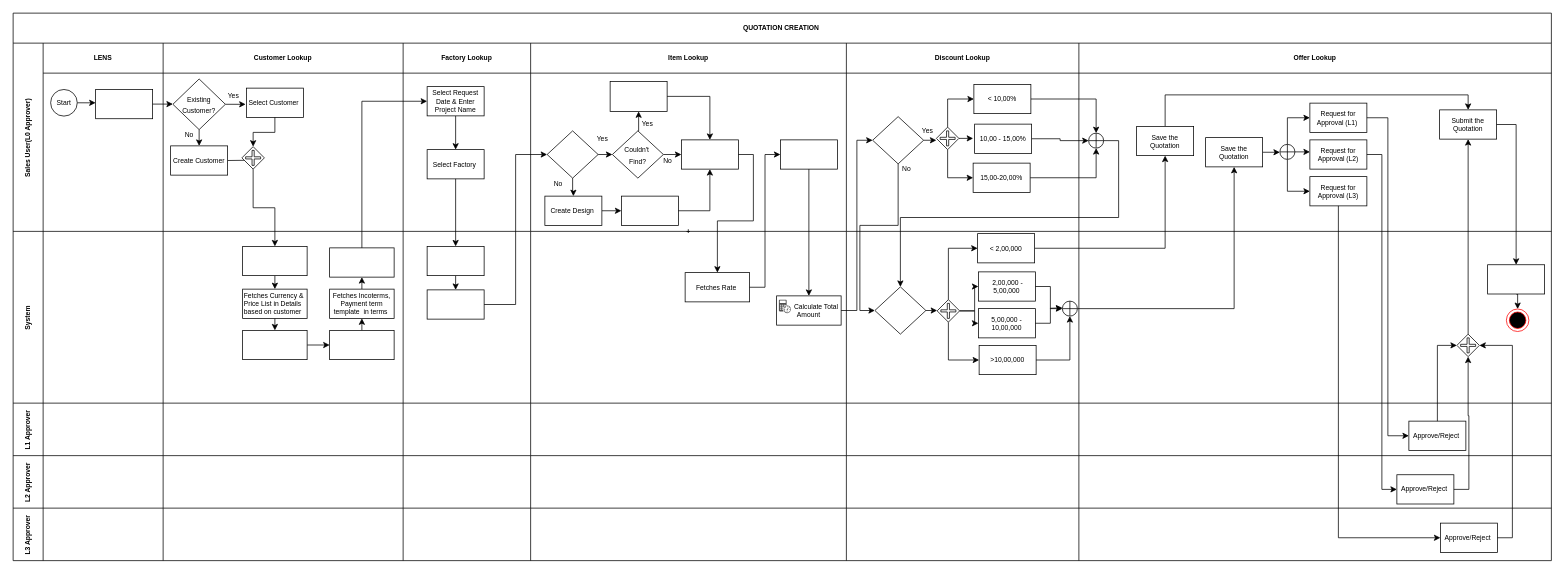
Some shapes in this 1565 by 574 pixel diagram are drawn without their labels. The shapes that lost their labels are listed below. From the top down, each one's centre as x and y in pixels, then its label:
At pixel 124 104: "Create Quotation".
At pixel 638 96: "Search item using filter in search variant".
At pixel 572 154: "Existing Item?".
At pixel 709 154: "Select Item".
At pixel 808 154: "Enter Quantity".
At pixel 898 140: "Apply Discount?".
At pixel 649 210: "Create Item".
At pixel 274 261: "Fetch customer name".
At pixel 361 262: "Fetches Customer group & Territory in More Info".
At pixel 455 261: "Fetches Letter head,Print Language in More Info".
At pixel 1516 279: "Attach all Item Technical Datasheets".
At pixel 455 304: "Fetches Terms & Details based on print language in Terms".
At pixel 900 310: "Grand Total?".
At pixel 274 345: "Fetches Sales Agent,Billing,shipping & Company address".
At pixel 361 345: "Fetches Packaging & warranty in Terms".
